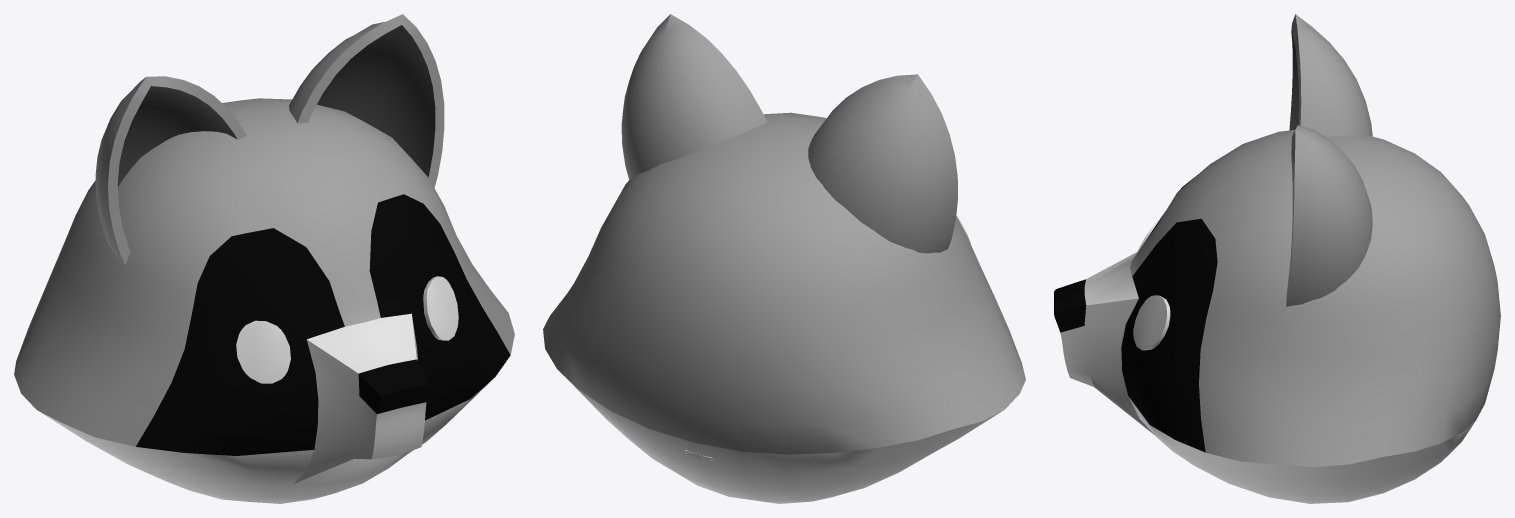
The model's file is raccoon.glb.
3 renders of one model, left to right at view 1: azimuth 30°, elevation 25°; view 2: azimuth 150°, elevation 25°; view 3: azimuth 270°, elevation 25°, orthographic. The views are drawn at different scales.
Visible parts, largest first — view 1: Cube.6187, Cube.6188, Circle.1847; view 2: Cube.6187, Cube.6188; view 3: Cube.6187, Cube.6188, Circle.1847.
Boxes of the visible parts, left/top/right/bottom form: Cube.6187: left=14, top=98, right=514, bottom=503; Cube.6188: left=95, top=14, right=444, bottom=264; Circle.1847: left=236, top=276, right=458, bottom=383; Cube.6187: left=543, top=112, right=1025, bottom=503; Cube.6188: left=621, top=14, right=957, bottom=253; Cube.6187: left=1054, top=130, right=1500, bottom=503; Cube.6188: left=1286, top=14, right=1372, bottom=306; Circle.1847: left=1133, top=218, right=1170, bottom=350.
Size of the model in its own units: 2.18 by 2.04 by 2.
1 material, 1 textured.
